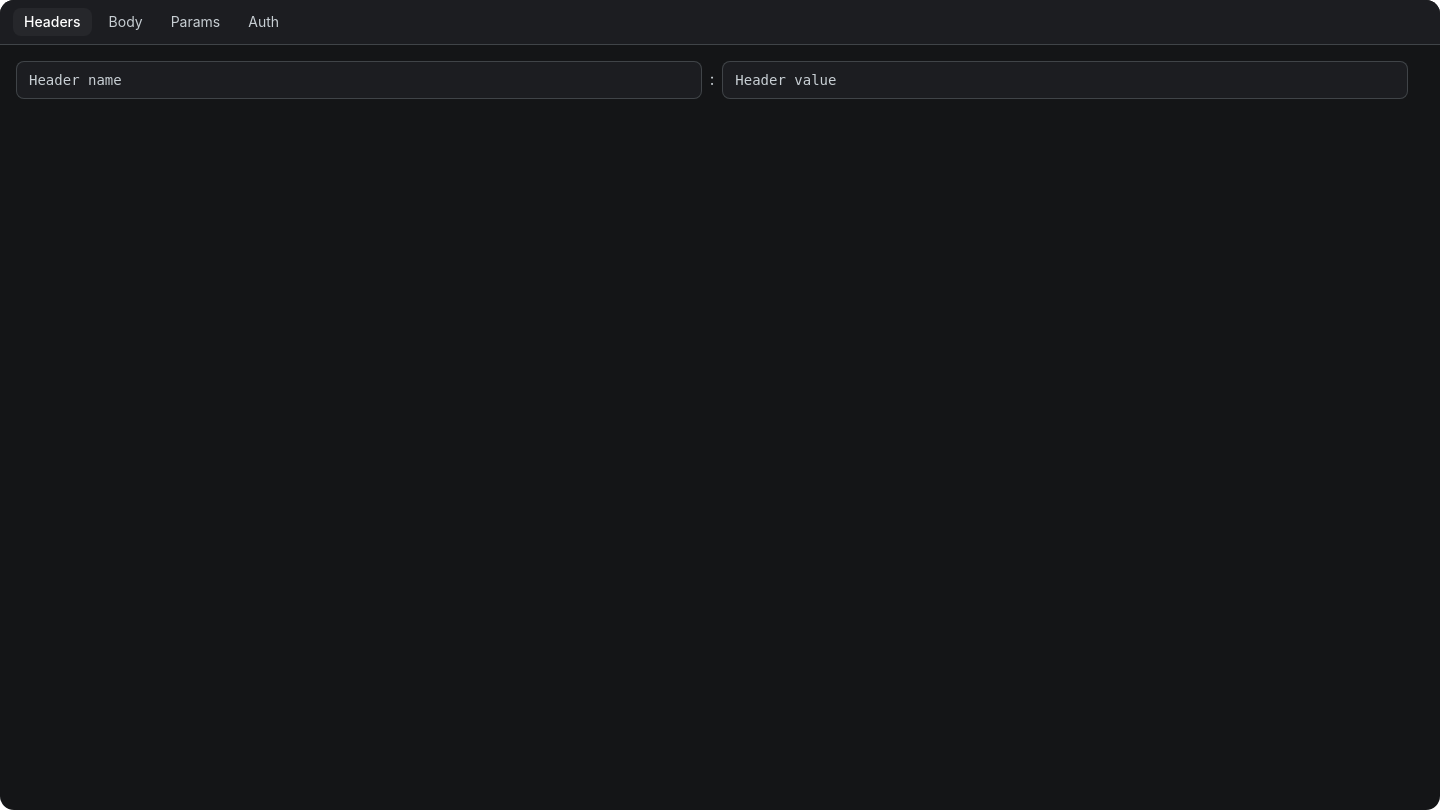
RequestBuilder › switches to Auth tab when clicked
Click the tab with test id "request-tab-auth": (264, 22) [236,8,291,36]
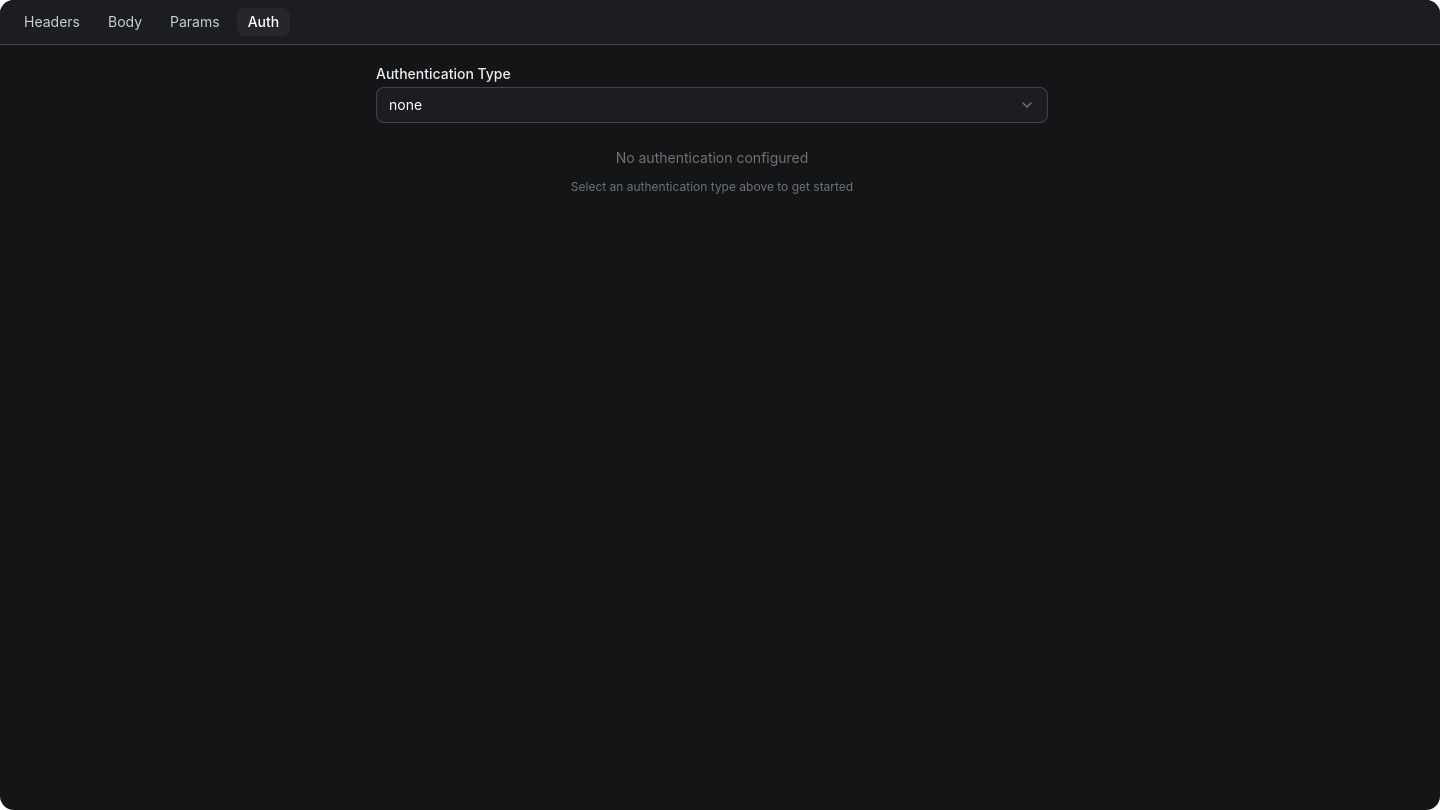
Expected: the element with test id "auth-editor" is shown, [376,65,1048,194]
